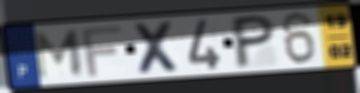4: (186, 17, 224, 72)
6: (280, 11, 319, 67)
F: (79, 24, 124, 78)
M: (34, 28, 85, 81)
P: (233, 13, 278, 71)
X: (130, 20, 185, 76)
